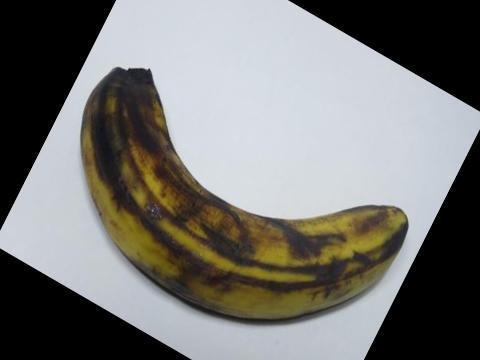overripe: (72, 50, 420, 338)
rotten: (71, 64, 181, 178)
